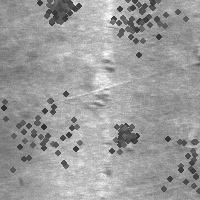rolled-in_scale: (0, 73, 96, 183), (84, 57, 132, 184), (98, 0, 180, 57), (147, 117, 200, 200), (101, 114, 141, 154), (34, 0, 82, 28)
